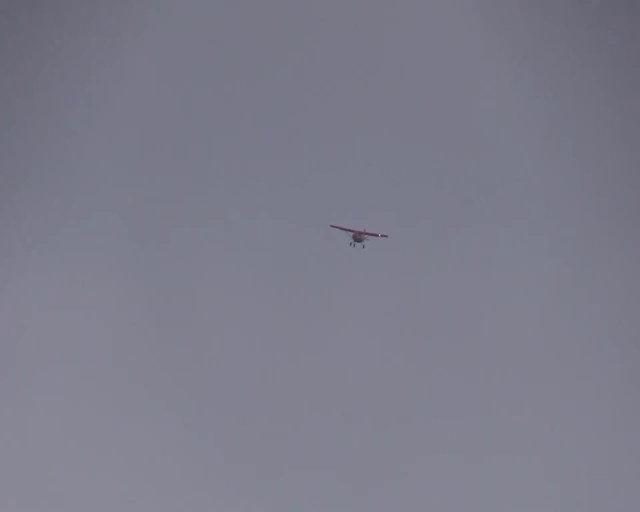AIRPLANE: (329, 223, 389, 249)
